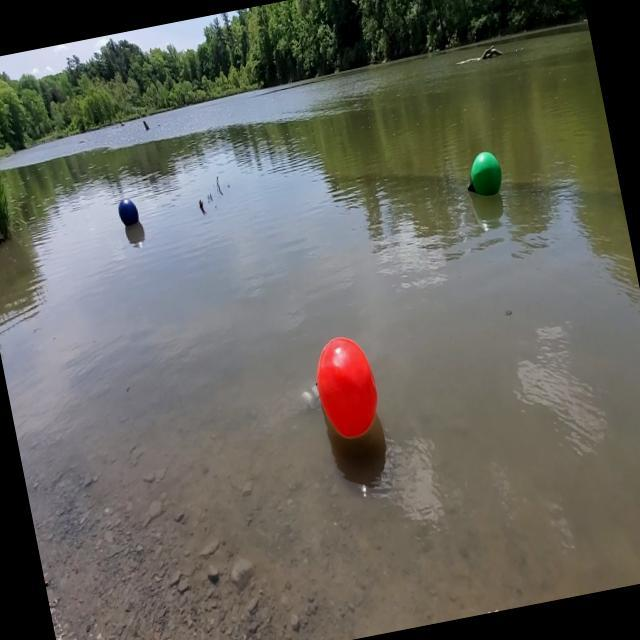buoy: (304, 328, 388, 448), (457, 145, 510, 206), (115, 193, 142, 230)
